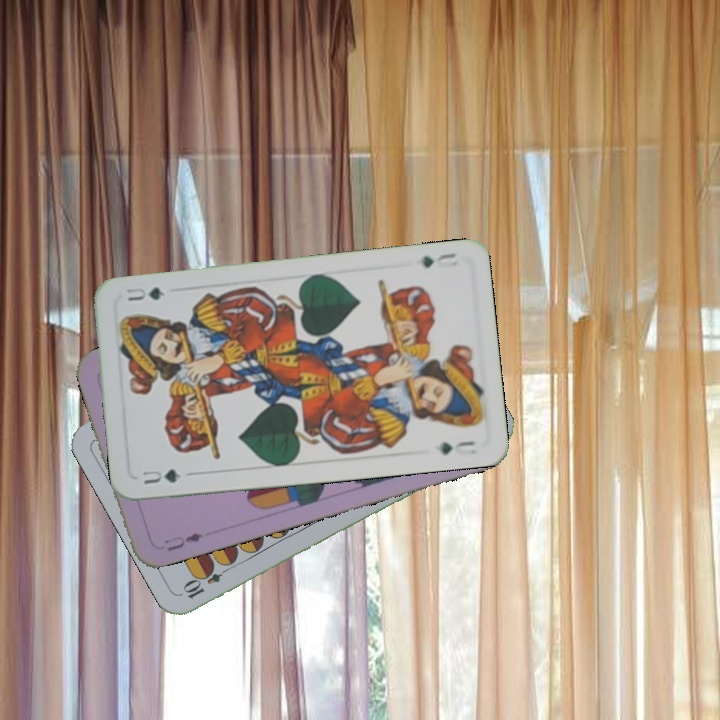E10: (179, 560, 234, 602)
EU: (160, 528, 206, 554)
GU: (138, 464, 184, 487), (417, 249, 459, 270)
